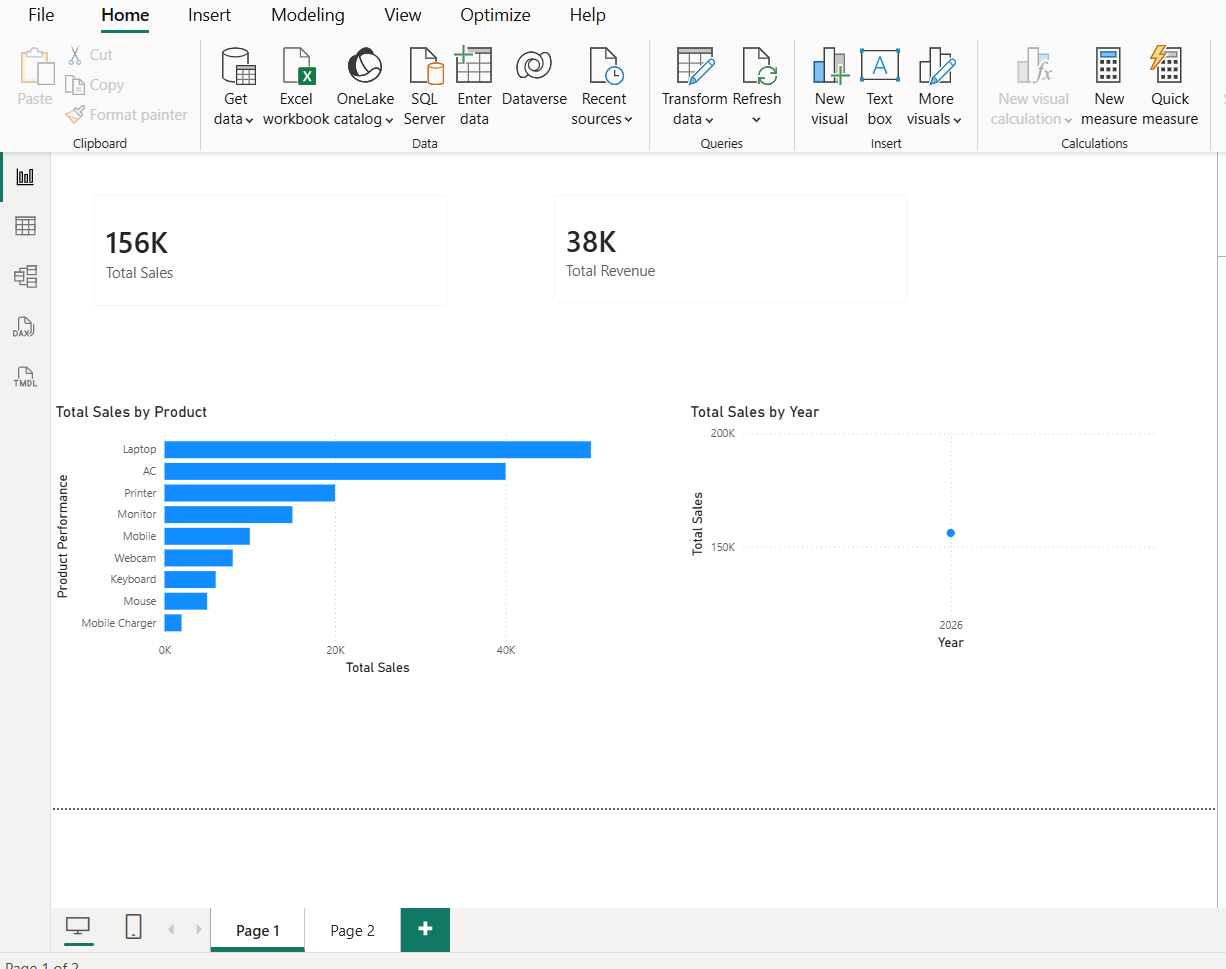

What the dashboard file says about the page in this screenshot:
{"tool":"powerbi","page":{"name":"Page 1","canvas":[1280,720],"ordinal":0},"visuals":[{"type":"cardVisual","fields":{"Data":["Sheet1.Total Sales"]},"box":[30.2,30.2,422.6,156.4],"z":0},{"type":"cardVisual","fields":{"Data":["Sheet1.Total Revenue"]},"box":[535.2,30.2,422.6,153.7],"z":1000},{"type":"clusteredBarChart","fields":{"Category":["Sheet1.Product"],"Y":["Sheet1.Total Sales"]},"box":[0,274.4,607.9,304.6],"z":2000},{"type":"lineChart","fields":{"Category":["Sheet1.Date.Variation.Date Hierarchy.Year","Sheet1.Date.Variation.Date Hierarchy.Quarter","Sheet1.Date.Variation.Date Hierarchy.Month","Sheet1.Date.Variation.Date Hierarchy.Day"],"Y":["Sheet1.Total Sales"]},"box":[697.1,274.4,522.8,277.2],"z":3000}]}

Visuals, with their boxes on the page's 1280x720 design canvas (x1, y1, x2, y2). These are canvas units, not pixel positions in the 1226x969 screenshot, which may show the page scaled, cropped or inside an application window:
cardVisual - Sheet1.Total Sales: bbox(30, 30, 453, 187)
cardVisual - Sheet1.Total Revenue: bbox(535, 30, 958, 184)
clusteredBarChart - Sheet1.Product x Sheet1.Total Sales: bbox(0, 274, 608, 579)
lineChart - Sheet1.Date.Variation.Date Hierarchy.Year x Sheet1.Date.Variation.Date Hierarchy.Quarter: bbox(697, 274, 1220, 552)
